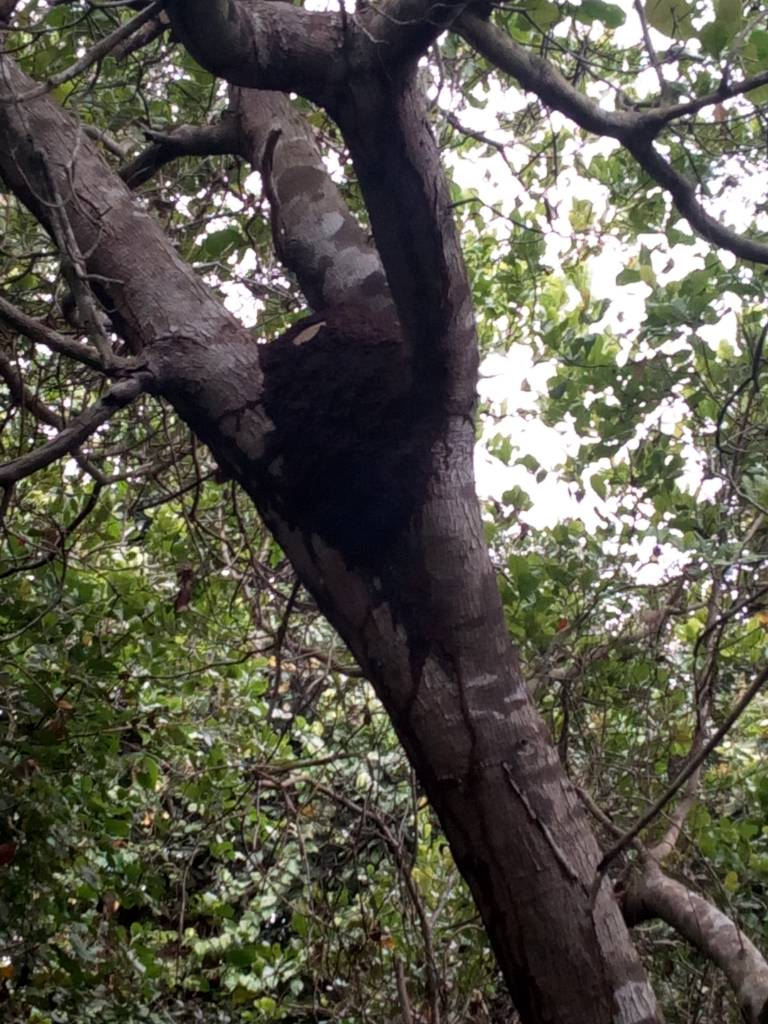Termites: (263, 317, 469, 614)
